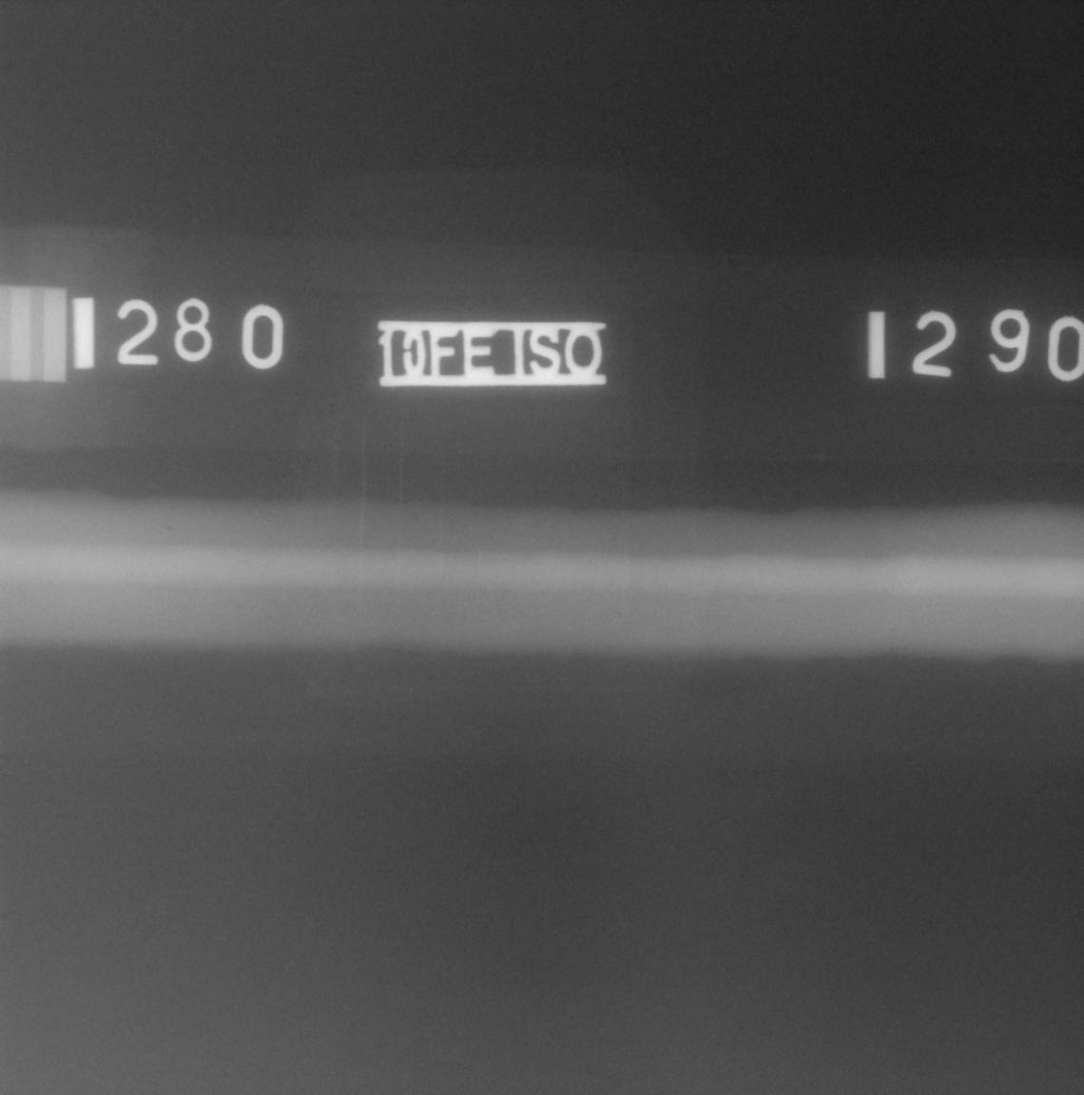Pore/Porosity: (165, 526, 174, 531)
